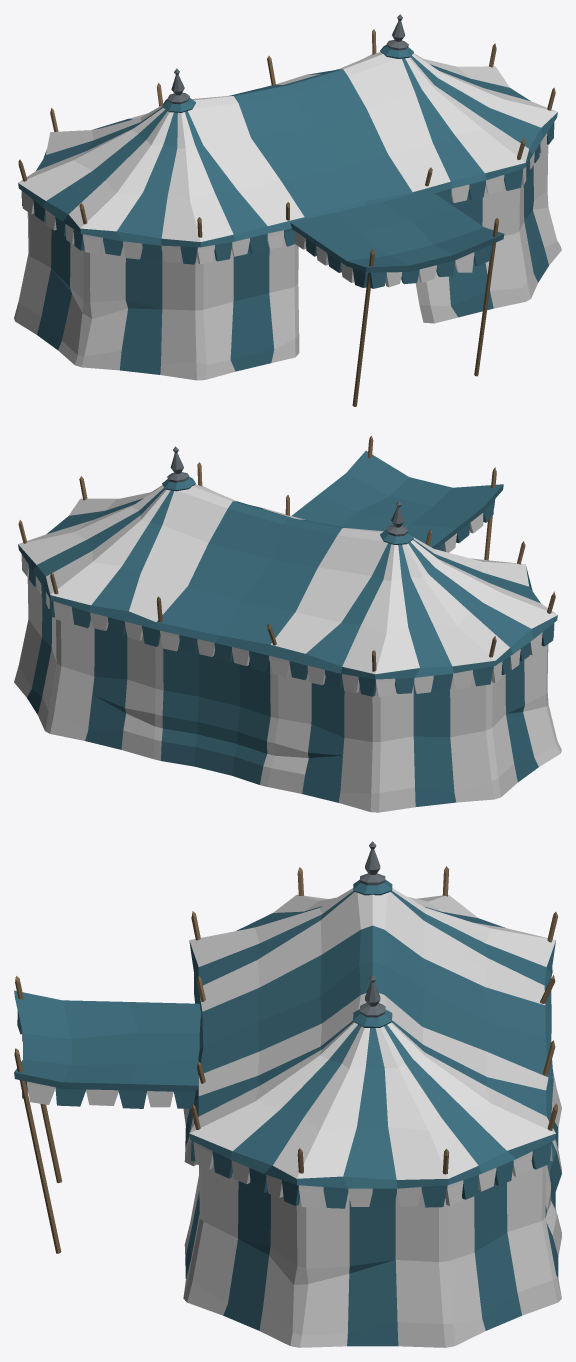
File: kn_bld_siegeyard.gltf
3 renders of one model, top to bottom at view 1: azimuth 30°, elevation 25°; view 2: azimuth 150°, elevation 25°; view 3: azimuth 270°, elevation 25°, orthographic. The views are drawn at different scales.
Visible parts, largest first — view 1: kn_bld_siegeyard; view 2: kn_bld_siegeyard; view 3: kn_bld_siegeyard.
Part boxes in pixels (<box>): kn_bld_siegeyard: <box>14,14,561,406</box>; kn_bld_siegeyard: <box>14,436,561,812</box>; kn_bld_siegeyard: <box>14,841,561,1347</box>.
Size of the model in its own units: 9.68 by 4.87 by 7.75.
Materials: 1 (1 with a texture image).
